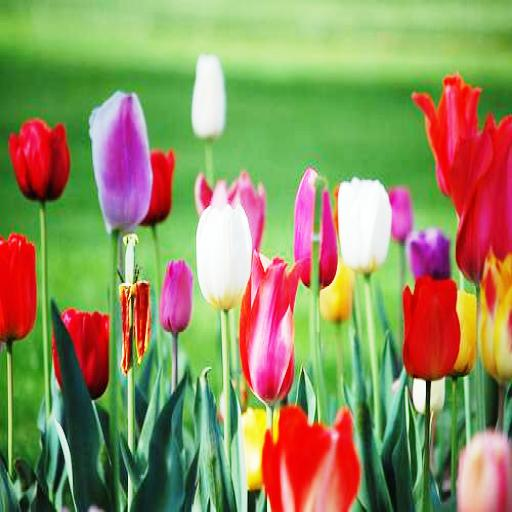tulip: (261, 406, 362, 512), (240, 247, 300, 403), (403, 272, 462, 380), (51, 307, 111, 400), (198, 204, 251, 308), (9, 118, 69, 203), (339, 177, 391, 269), (160, 257, 192, 332)
